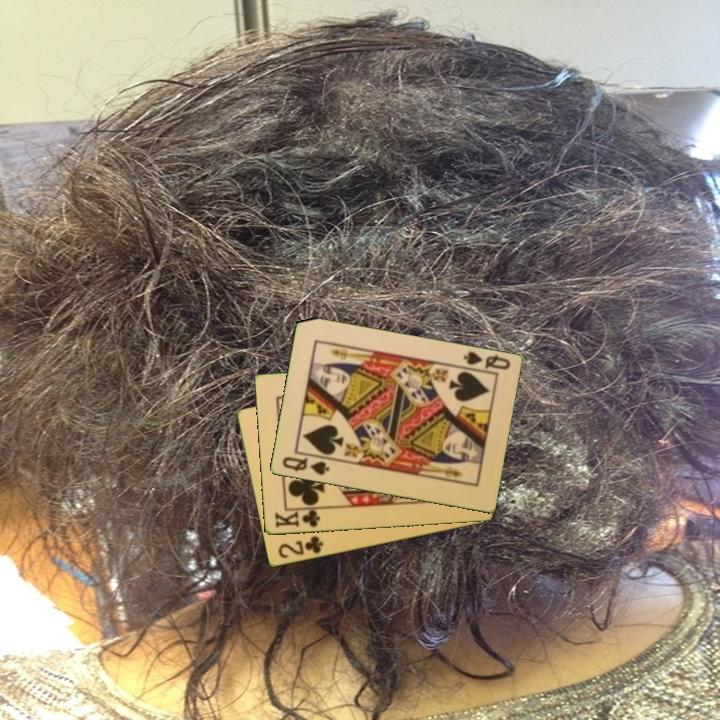2c: (274, 533, 326, 561)
Kc: (271, 505, 325, 531)
Qs: (278, 453, 332, 478), (459, 348, 513, 373)
